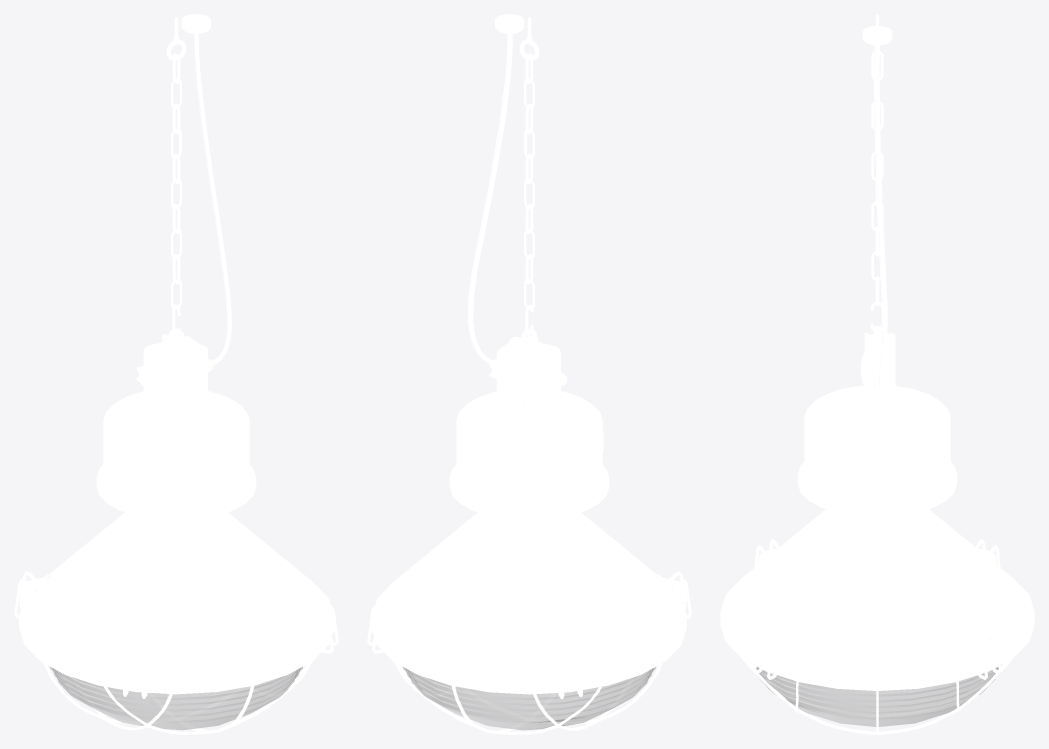
File: hanging_industrial_lamp.glb
The picture shows the model from 3 angles, left to right: view 1: azimuth 30°, elevation 25°; view 2: azimuth 150°, elevation 25°; view 3: azimuth 270°, elevation 25°; orthographic projection.
Visible parts, largest first — view 1: hanging_industrial_lamp; view 2: hanging_industrial_lamp; view 3: hanging_industrial_lamp.
Part boxes in pixels (x1,y1,x2,y2): hanging_industrial_lamp: [14, 14, 338, 734]; hanging_industrial_lamp: [367, 14, 691, 734]; hanging_industrial_lamp: [720, 14, 1034, 734].
Bounding box in the file's own units: 0.5497 × 1.36 × 0.5497.
Materials: 2 (1 with a texture image).
